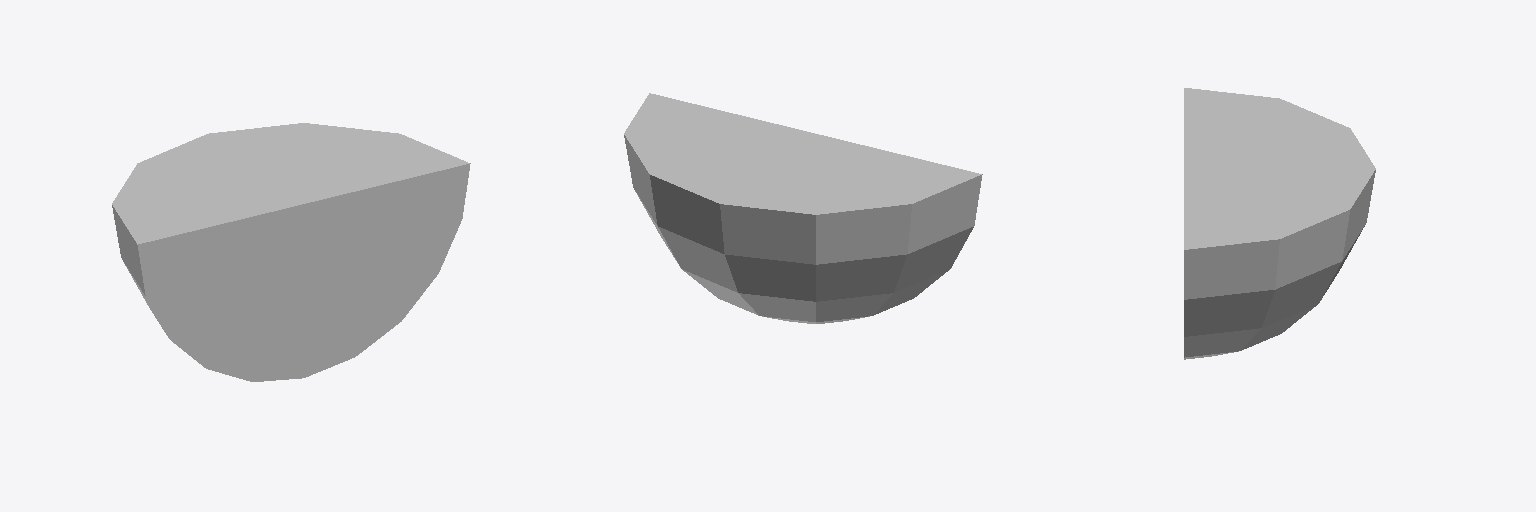
Rendered from Naranja-1_4BB.obj.
3 views of the same model, side by side, from view 1: azimuth 30°, elevation 25°; view 2: azimuth 150°, elevation 25°; view 3: azimuth 270°, elevation 25° (orthographic).
Visible parts, largest first — view 1: Naranja-1_4BB_Sphere.009; view 2: Naranja-1_4BB_Sphere.009; view 3: Naranja-1_4BB_Sphere.009.
Part boxes in pixels (bbox=[...]): Naranja-1_4BB_Sphere.009: bbox=[112, 123, 470, 381]; Naranja-1_4BB_Sphere.009: bbox=[624, 93, 982, 323]; Naranja-1_4BB_Sphere.009: bbox=[1184, 88, 1375, 359].
Bounding box in the file's own units: 2 × 1 × 1.